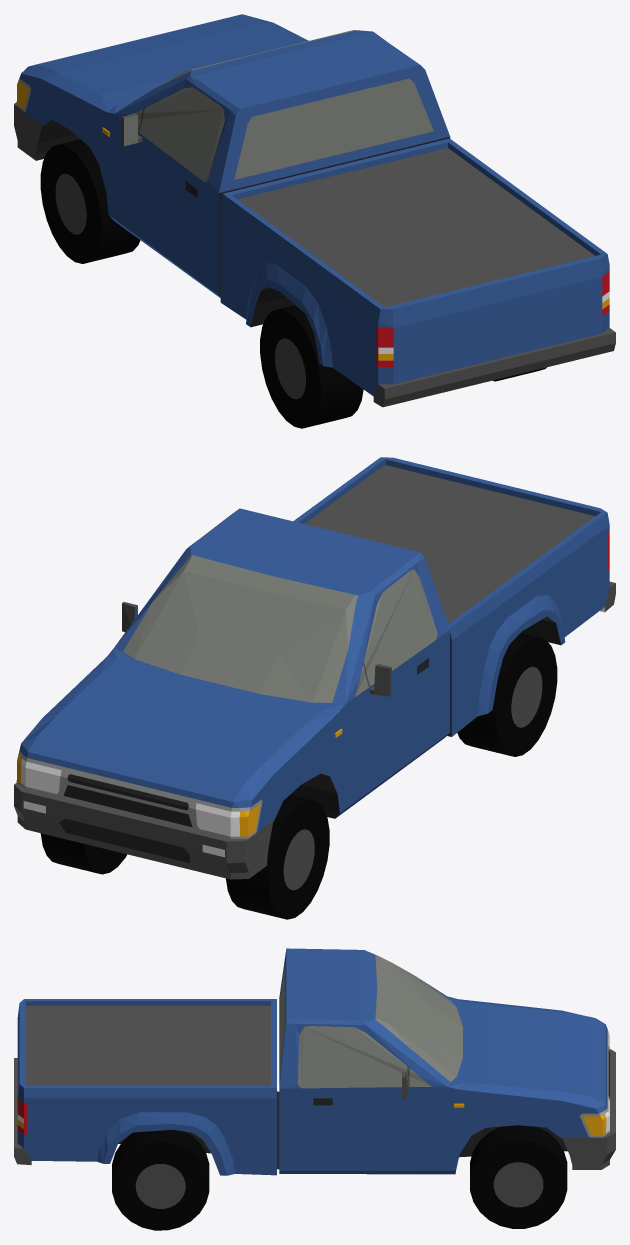
File: hilx 97.obj
The picture shows the model from 3 angles, top to bottom: view 1: azimuth 30°, elevation 25°; view 2: azimuth 150°, elevation 25°; view 3: azimuth 270°, elevation 25°; orthographic projection. The views are drawn at different scales.
Parts seen in each view (by area): view 1: Mesh1 Model, Mesh5 Model, Mesh4 Model; view 2: Mesh1 Model, Mesh4 Model, Mesh5 Model, Mesh3 Model; view 3: Mesh1 Model, Mesh3 Model, Mesh2 Model.
Boxes of the visible parts, x1,y1,x2,y2 form: Mesh1 Model: (14,14,615,407); Mesh5 Model: (260,305,363,428); Mesh4 Model: (40,139,140,263); Mesh1 Model: (14,457,615,879); Mesh4 Model: (226,795,329,919); Mesh5 Model: (457,633,557,756); Mesh3 Model: (40,833,127,874); Mesh1 Model: (14,948,615,1175); Mesh3 Model: (470,1125,567,1228); Mesh2 Model: (112,1130,209,1230).
Bounding box in the file's own units: 134 × 120 × 326.
